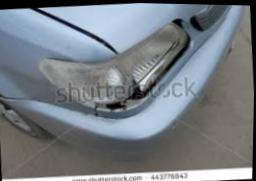Light: (41, 19, 190, 112)
